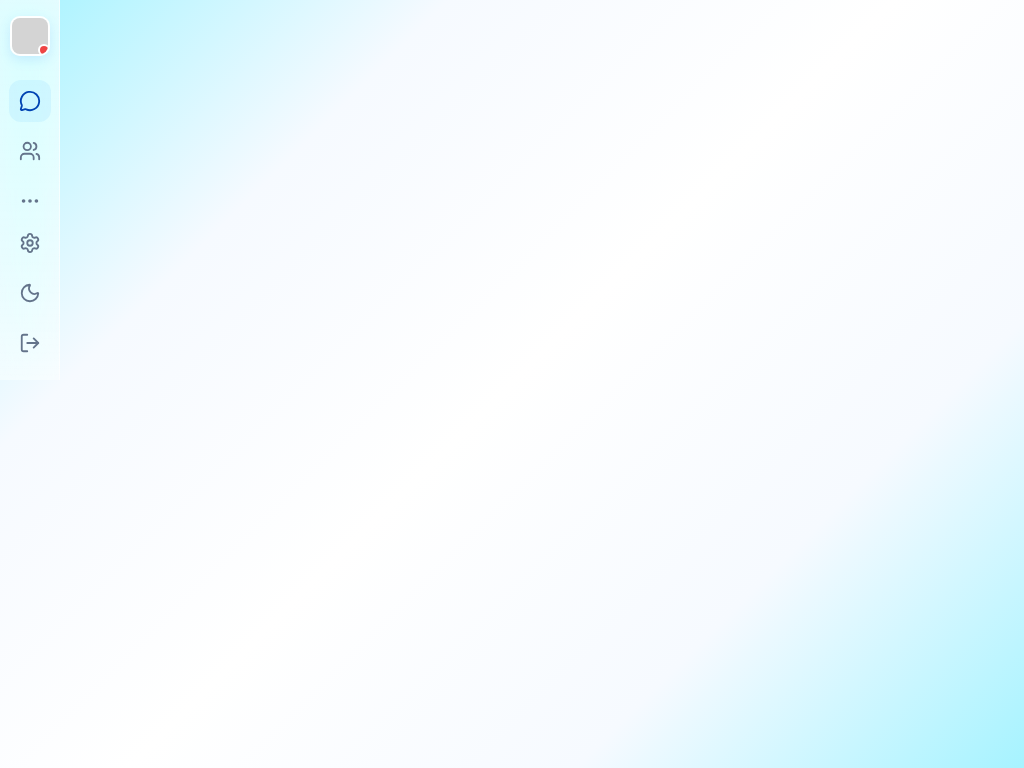
it: Sidebar：钉住布局 › 再点「更多」或点面板外收起
Click the button named "更多功能" at (30, 201), box [8,180,50,222]
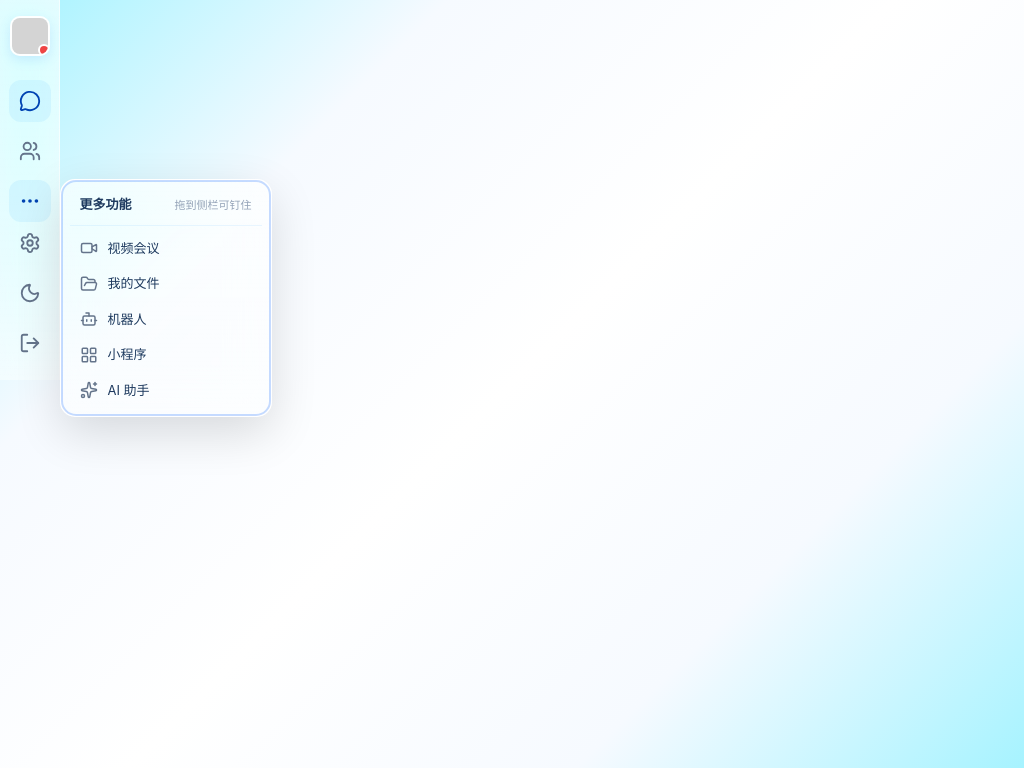
Now the dialog with test id "sidebar-more-panel" is shown, box [60,180,270,416]
Click the button named "更多功能" at (30, 201), box [8,180,50,222]
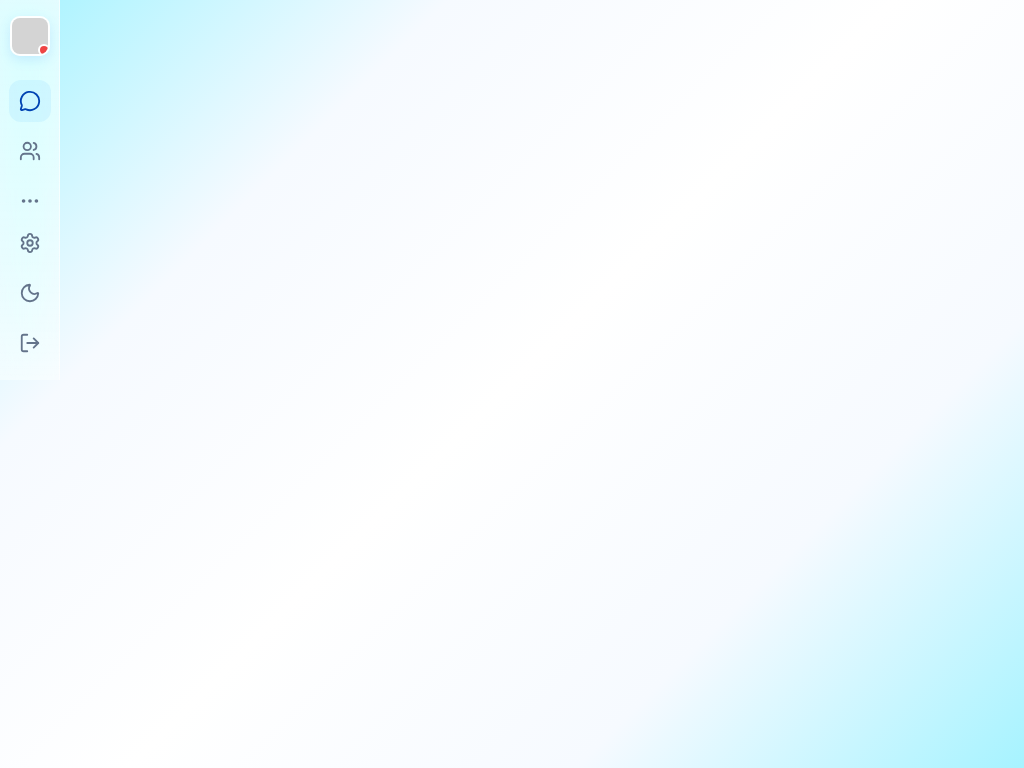
Now the dialog with test id "sidebar-more-panel" is gone
Click the button named "更多功能" at (30, 201), box [8,180,50,222]
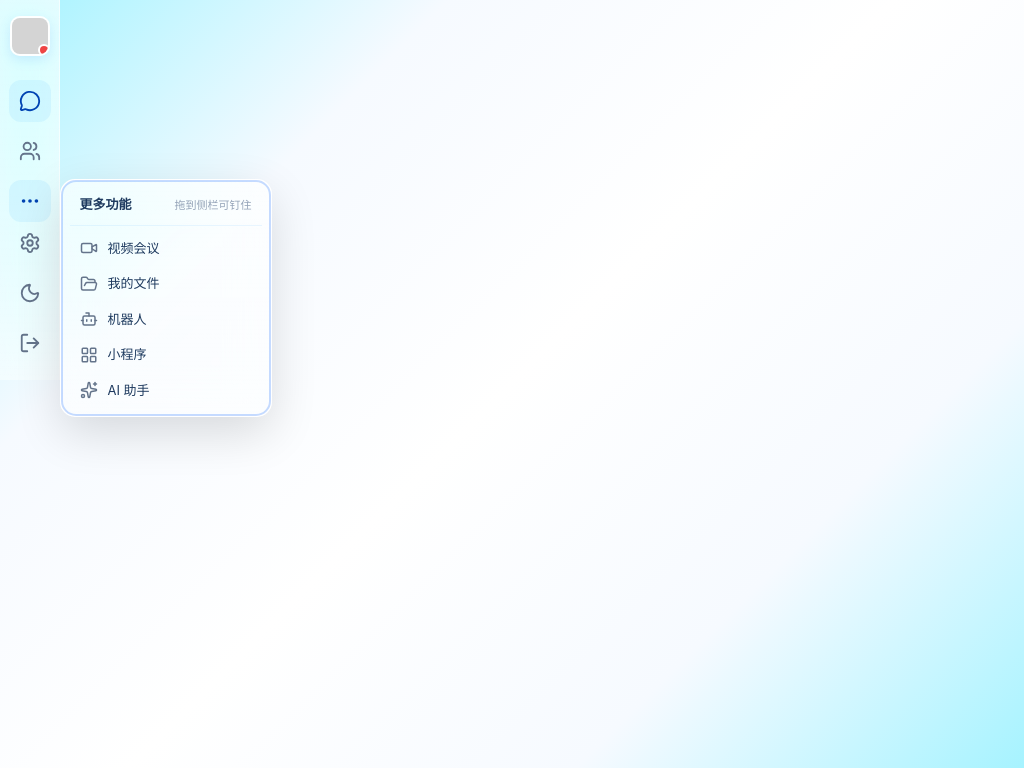
Now the dialog with test id "sidebar-more-panel" is shown, box [60,180,270,416]
Press the mouse on the element showing "更多功能 拖到侧栏可钉住 视频会议 我的文件 机器人 小程序 AI 助手" at (512, 384), box [0,0,1023,767]
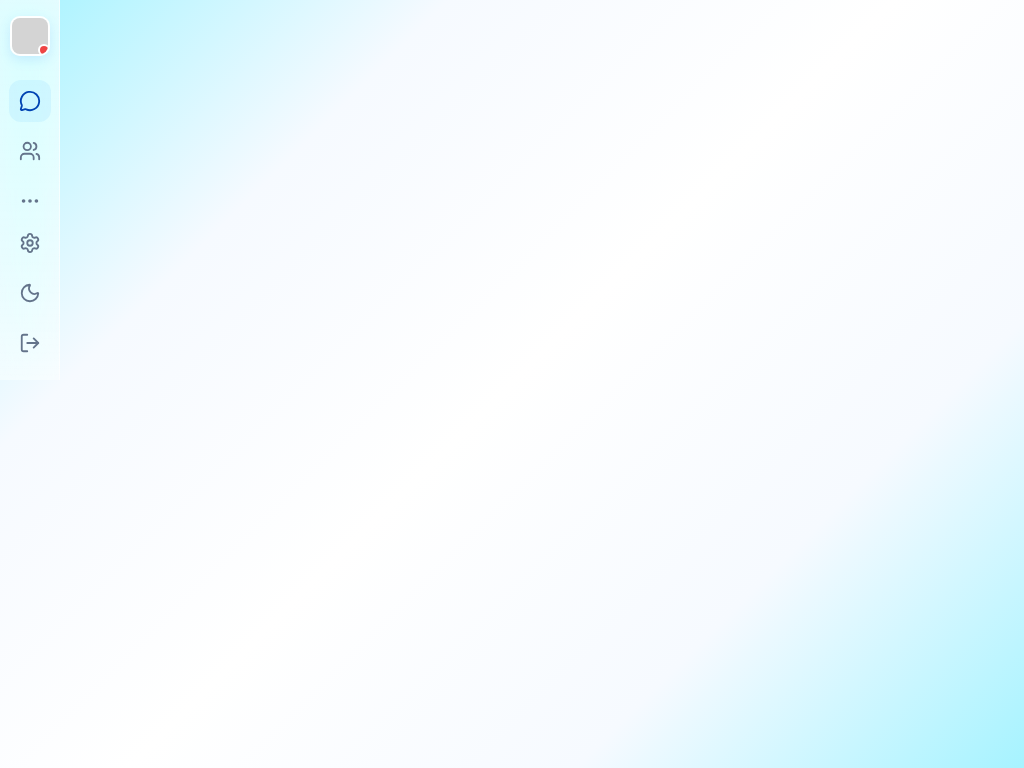
Now the dialog with test id "sidebar-more-panel" is gone
